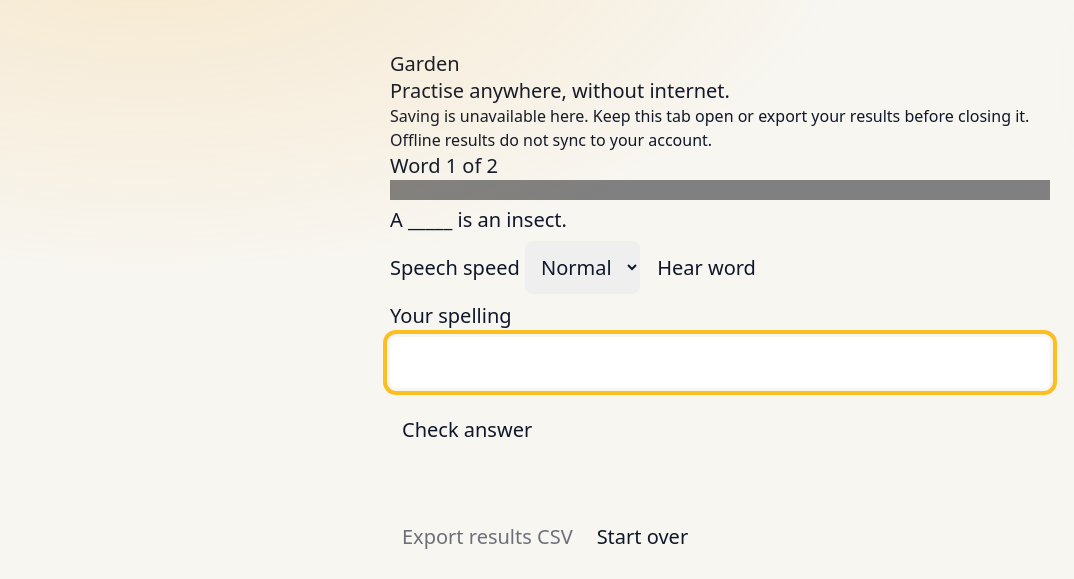
offline practice still works when browser storage is blocked
This screenshot has width=1074, height=579.
Type "bee" into the field with id "answer".
click(720, 362); type("bee")  # box top-left (390, 337), bottom-right (1050, 388)
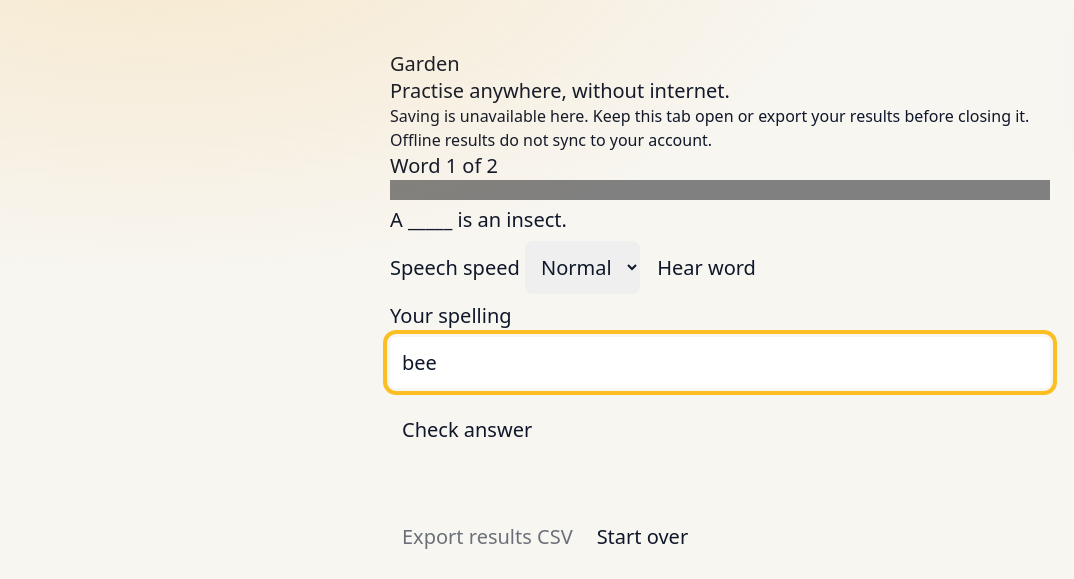
Submit the form with id "form", box top-left (390, 302), bottom-right (1050, 463)
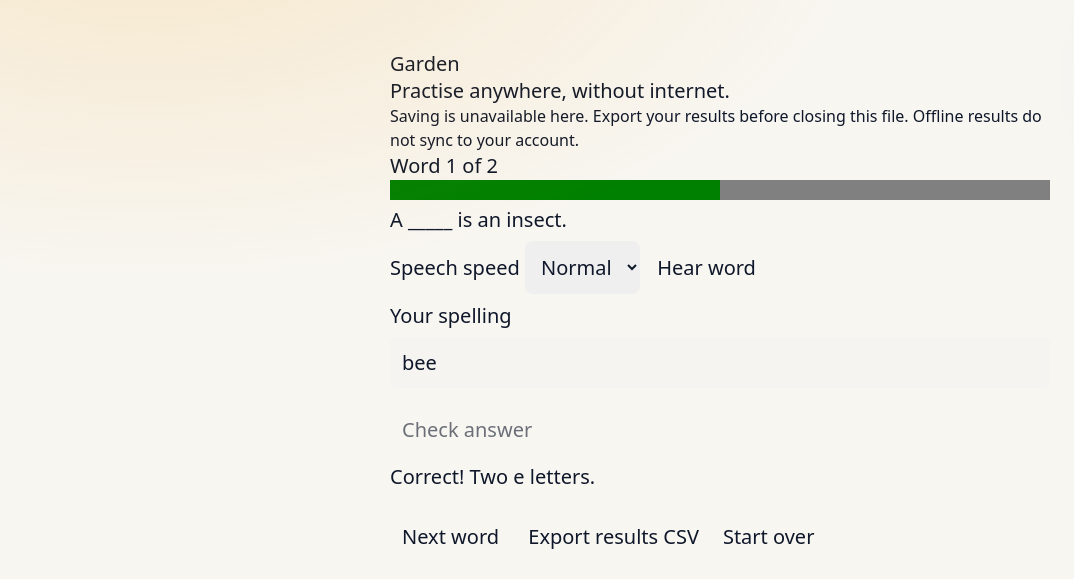
Click the button with id "next".
click(451, 536)  # box top-left (390, 511), bottom-right (511, 562)
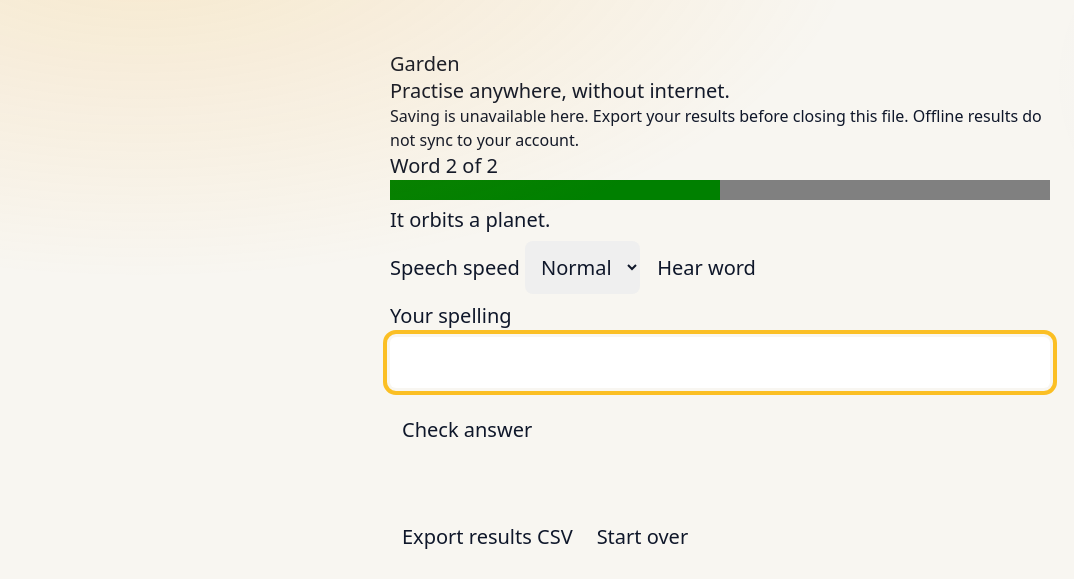
Expected: the text with id "storage" shows "unavailable", top-left (390, 105), bottom-right (1042, 151)
Now the message with id "count" reads "Word 2 of 2", box top-left (390, 152), bottom-right (498, 179)
